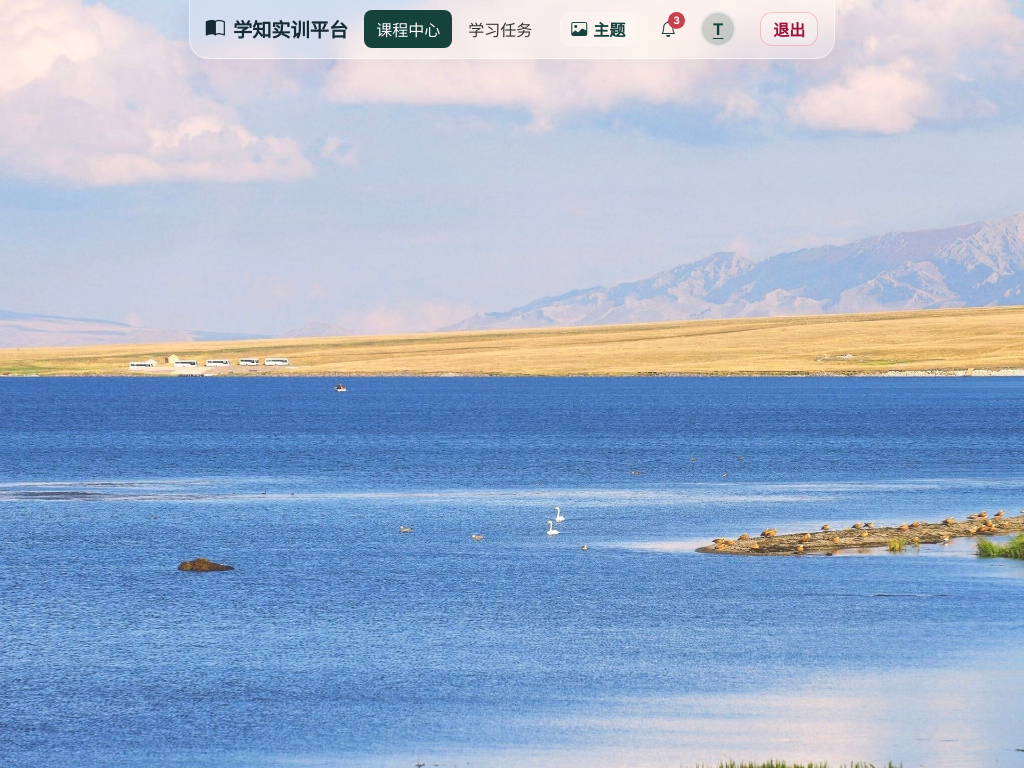
Scenario: PlatformNavigationBar › lets users pick a background image from the fixed image set
Check: the link with test id "platform-nav-courses" reads "课程中心", box [364,10,452,48]
Check: the link with test id "platform-nav-learning" reads "学习任务", box [468,20,532,40]
Click the button with test id "background-picker-toggle".
click(598, 29)  # box [560,12,636,46]
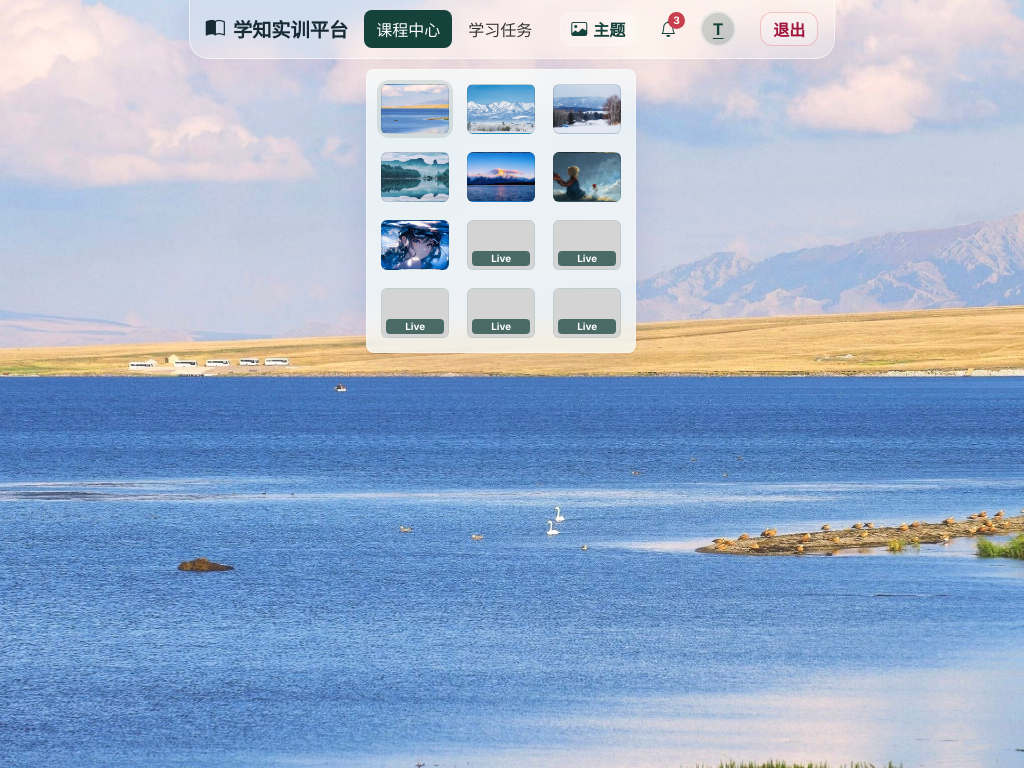
Check: the element with test id "background-option-" does not show ""
Check: the button with test id "background-option-" is empty
Click the button with test id "background-option-".
click(501, 109)  # box [463,80,539,138]
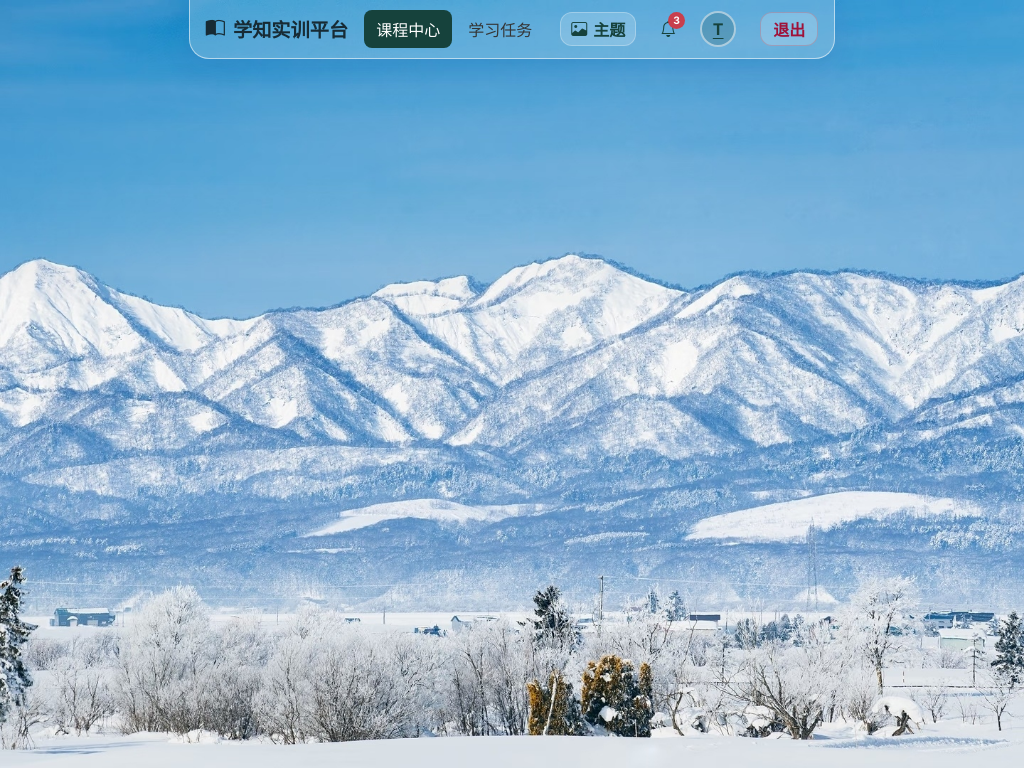
Check: the button with test id "background-option-2" is gone
